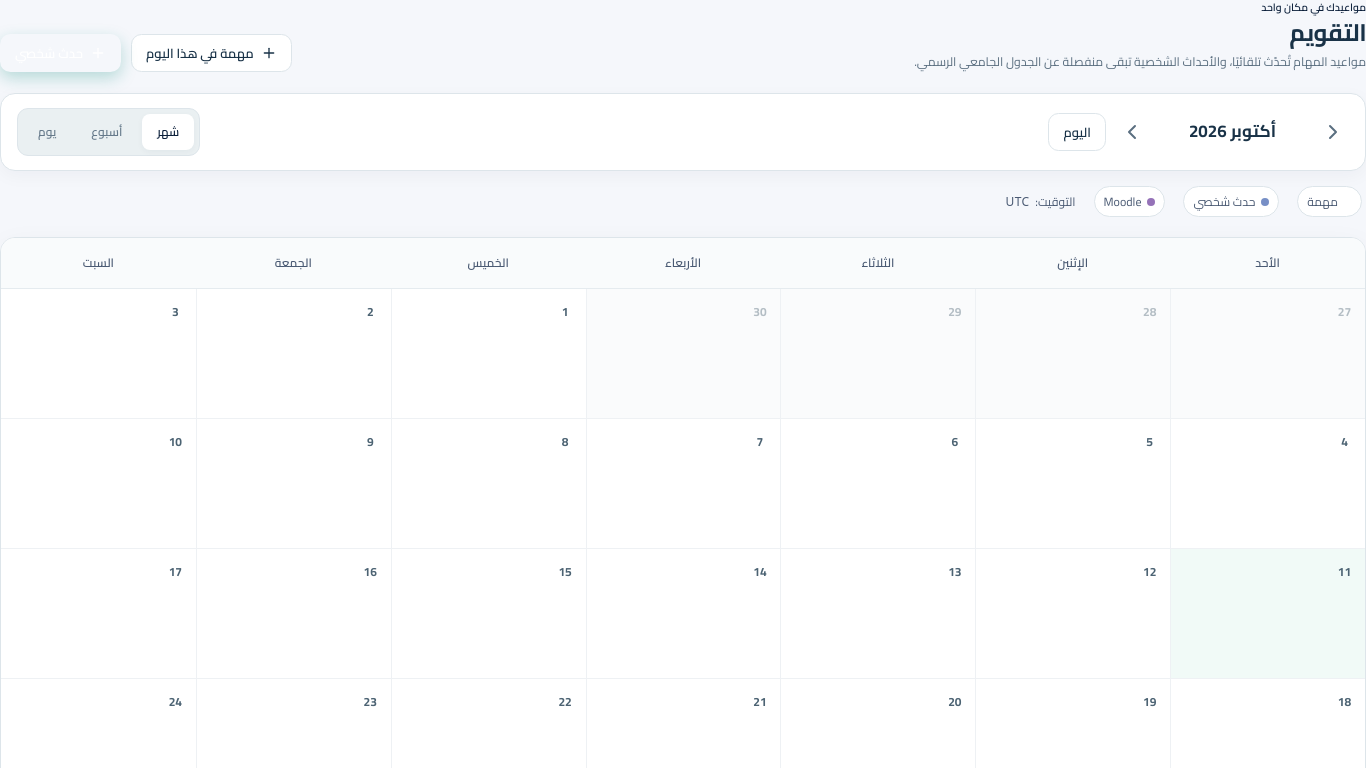
Test: creating a task from the calendar uses task API and refreshes calendar records
Click the button "مهمة في هذا اليوم" at (211, 53), box [131,34,292,72]
(page scrolled)
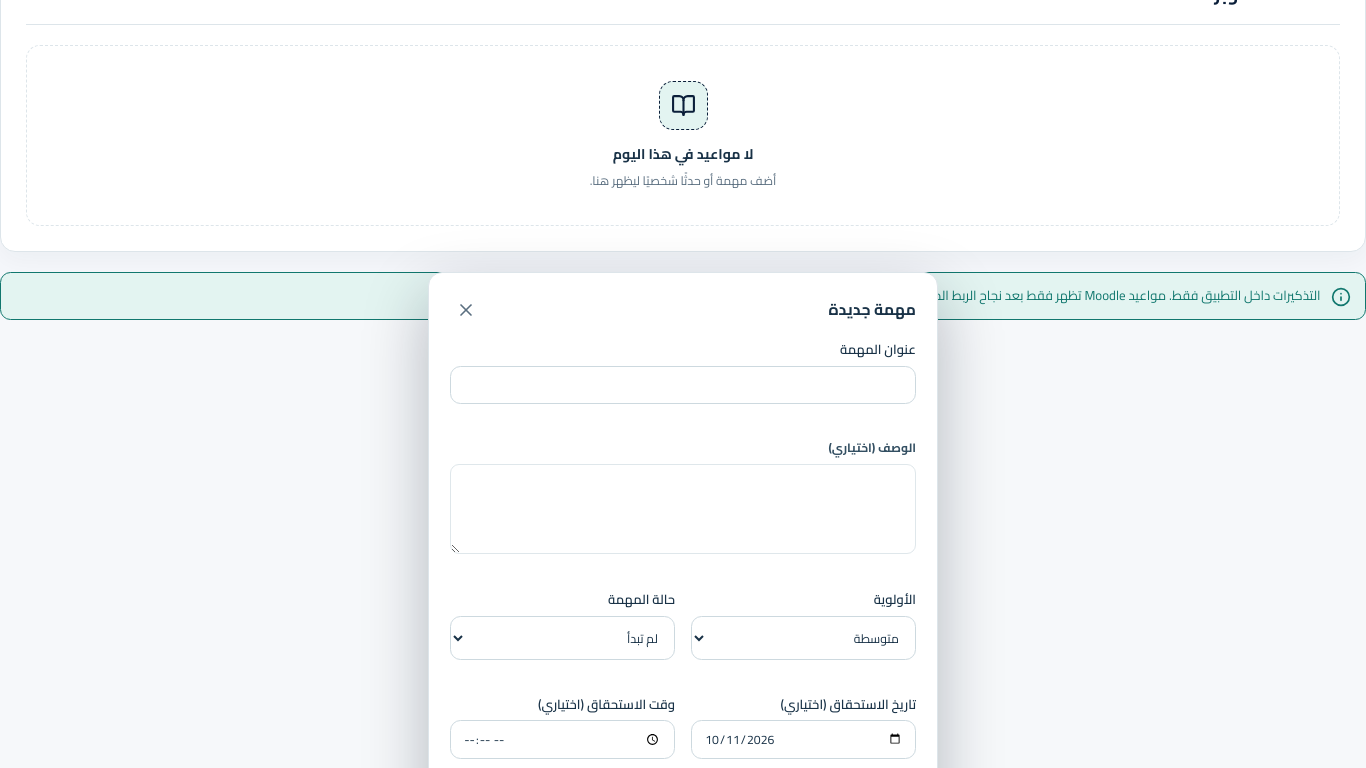
Expected: the date field labelled "تاريخ الاستحقاق (اختياري)" holds "2026-10-11", [691,720,916,759]
Type "مهمة التقويم" into the field labelled "عنوان المهمة" at (683, 385), box [450,366,916,404]
(page scrolled)
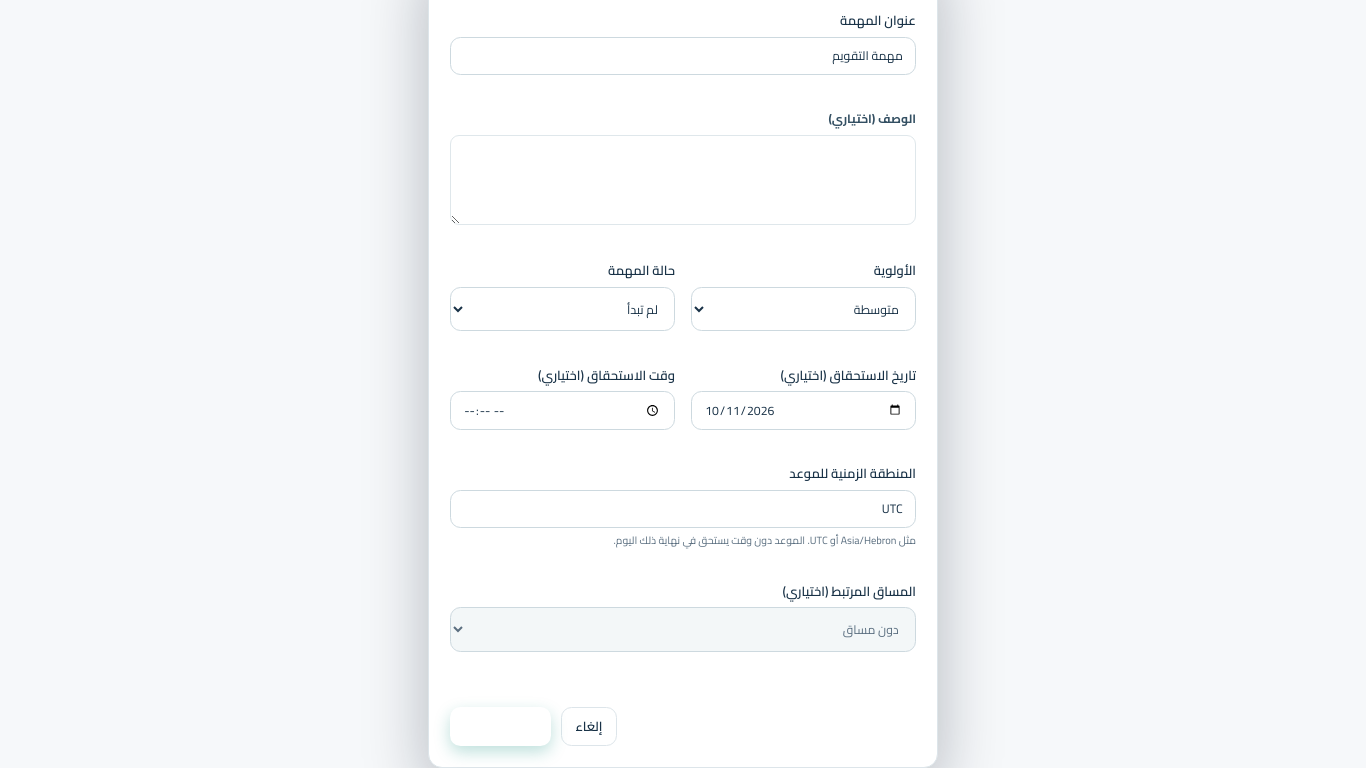
Click the button "حفظ المهمة" at (500, 726), box [450,707,550,746]
(page scrolled)
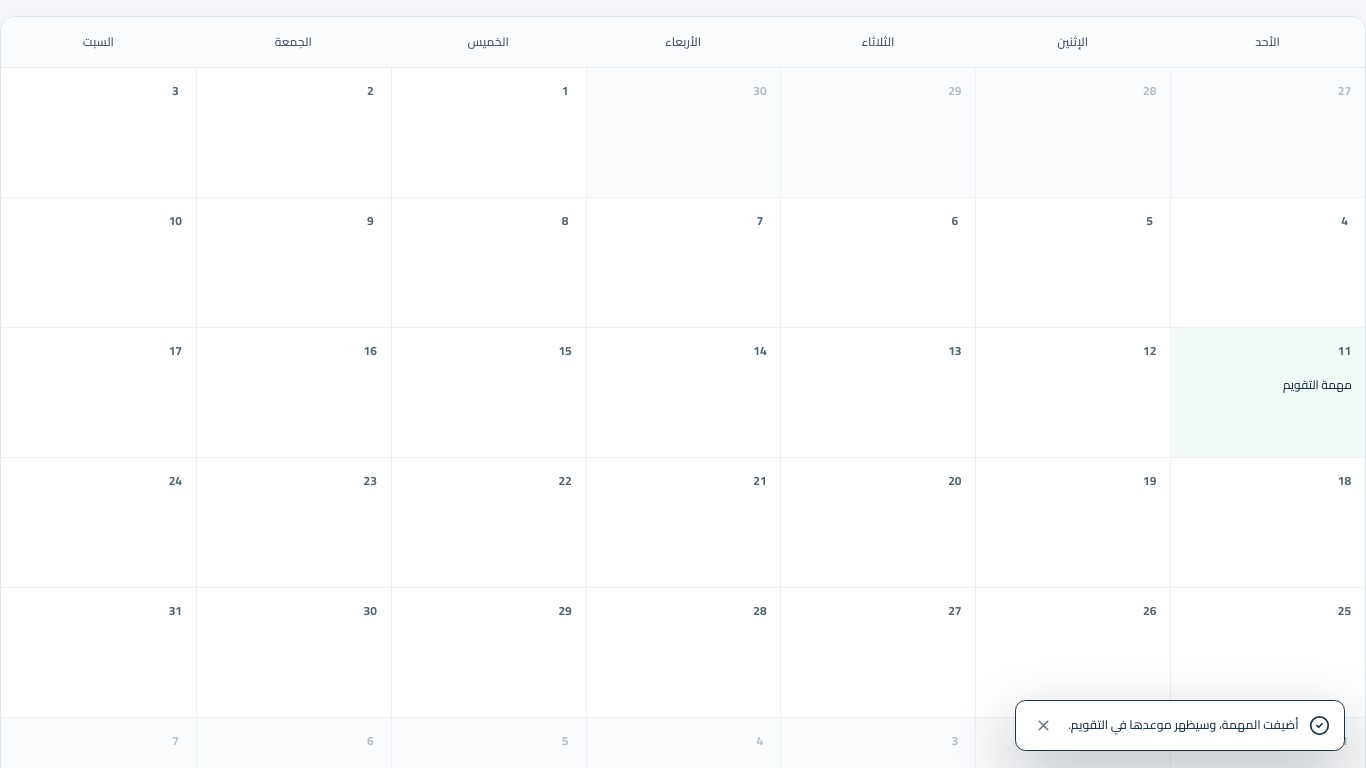
Expected: the link "مهمة التقويم" is shown, [1283,373,1352,396]
